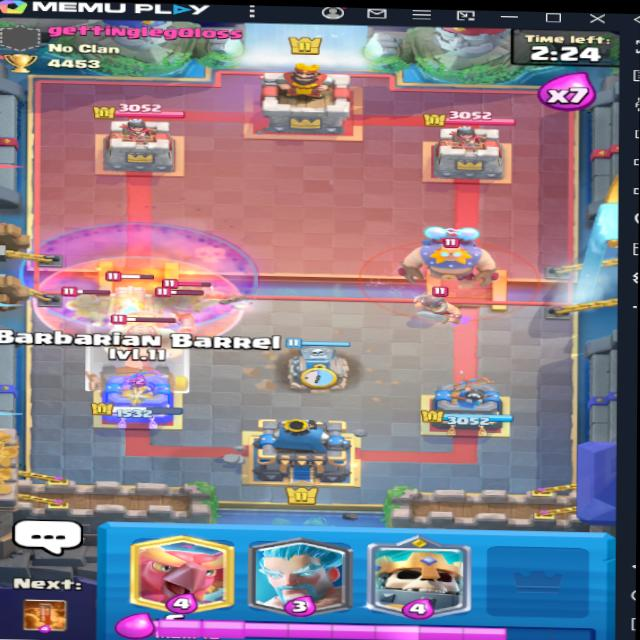Ebarbs: (413, 283, 468, 320)
Egiant: (391, 226, 504, 293)
Goblingiant: (101, 304, 186, 367)
Musketeer: (64, 283, 114, 324)
Sparky: (110, 279, 152, 316)
